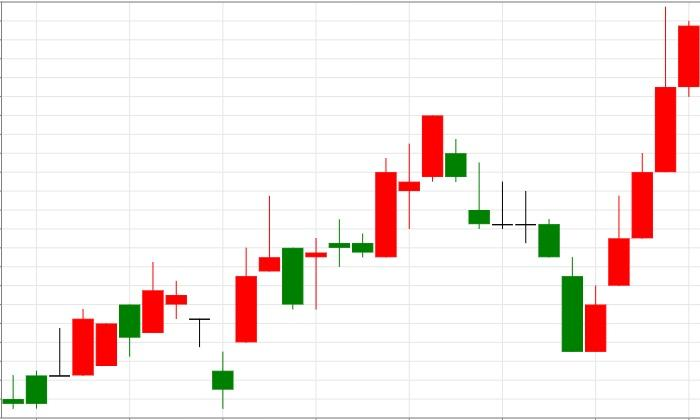three_white_soldiers_rise: (445, 139, 653, 352)
